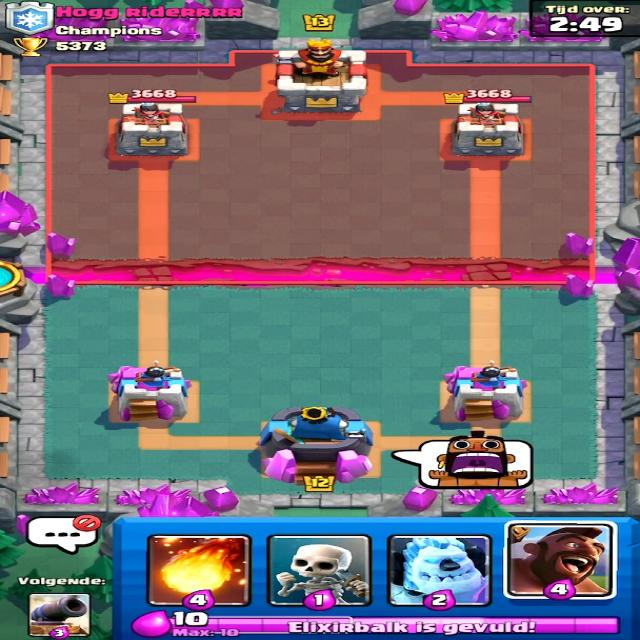Fireball_Card: (145, 534, 250, 606)
Hog_Rider_Card: (504, 519, 617, 598)
Ice_Golem_Card: (381, 536, 496, 609)
Skeleton_Card: (270, 534, 370, 605)
